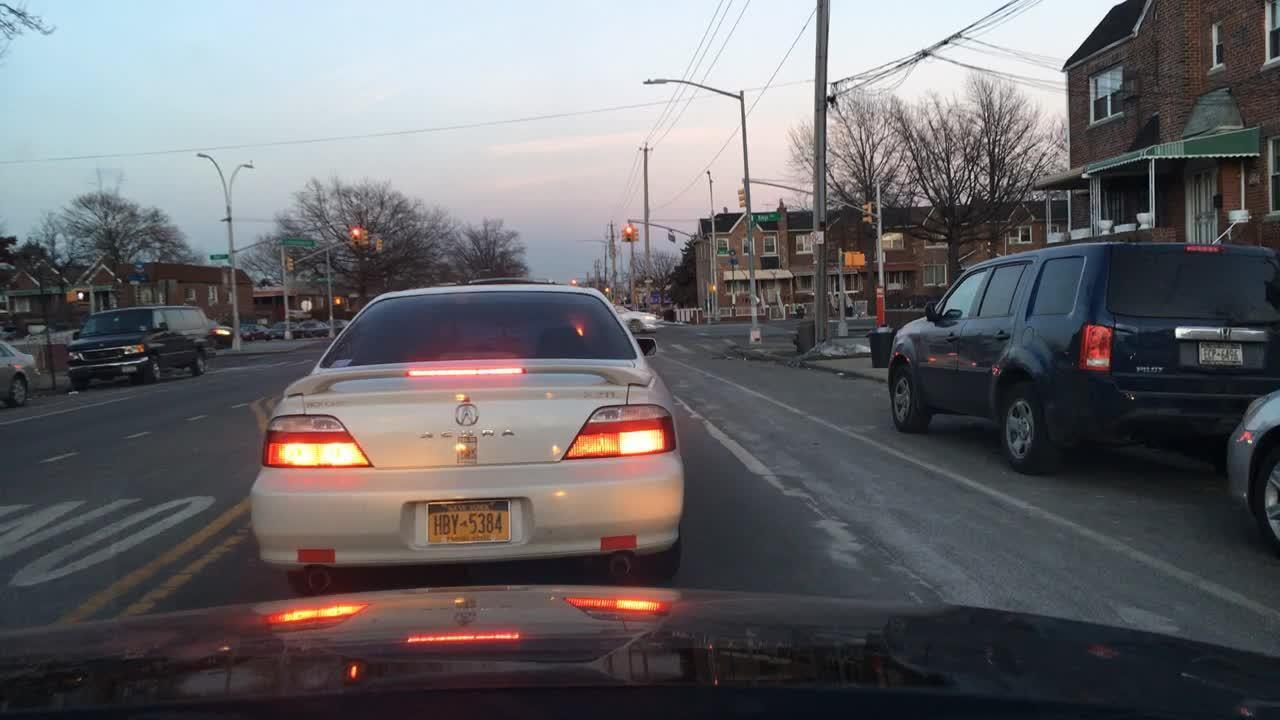Honda: (1214, 323, 1237, 344)
acura: (454, 402, 481, 428)
